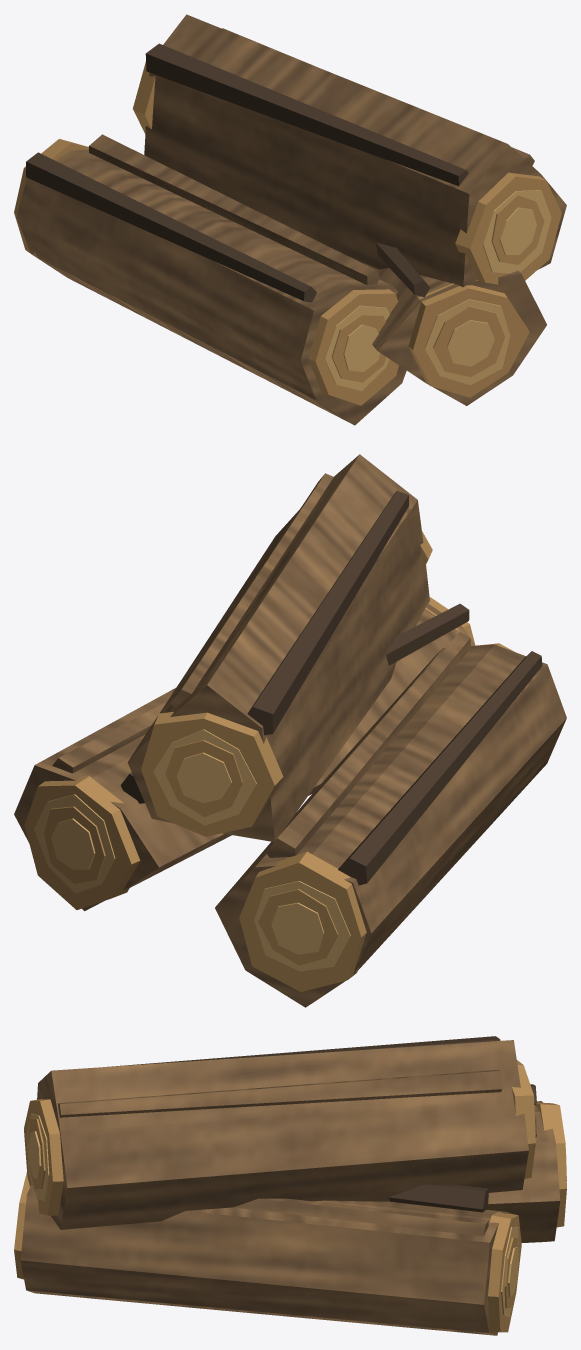
Rendered from firewood.glb.
The picture shows the model from 3 angles, top to bottom: view 1: azimuth 30°, elevation 25°; view 2: azimuth 150°, elevation 25°; view 3: azimuth 270°, elevation 25°; orthographic projection. The views are drawn at different scales.
Visible parts, largest first — view 1: SplitPineBundle; view 2: SplitPineBundle; view 3: SplitPineBundle.
Boxes of the visible parts, x1=… form: SplitPineBundle: x1=14, y1=14, x2=566, y2=425; SplitPineBundle: x1=14, y1=454, x2=566, y2=1007; SplitPineBundle: x1=14, y1=1036, x2=566, y2=1335.
Size of the model in its own units: 0.704 by 0.518 by 0.9682.
Materials: 4 (1 with a texture image).
